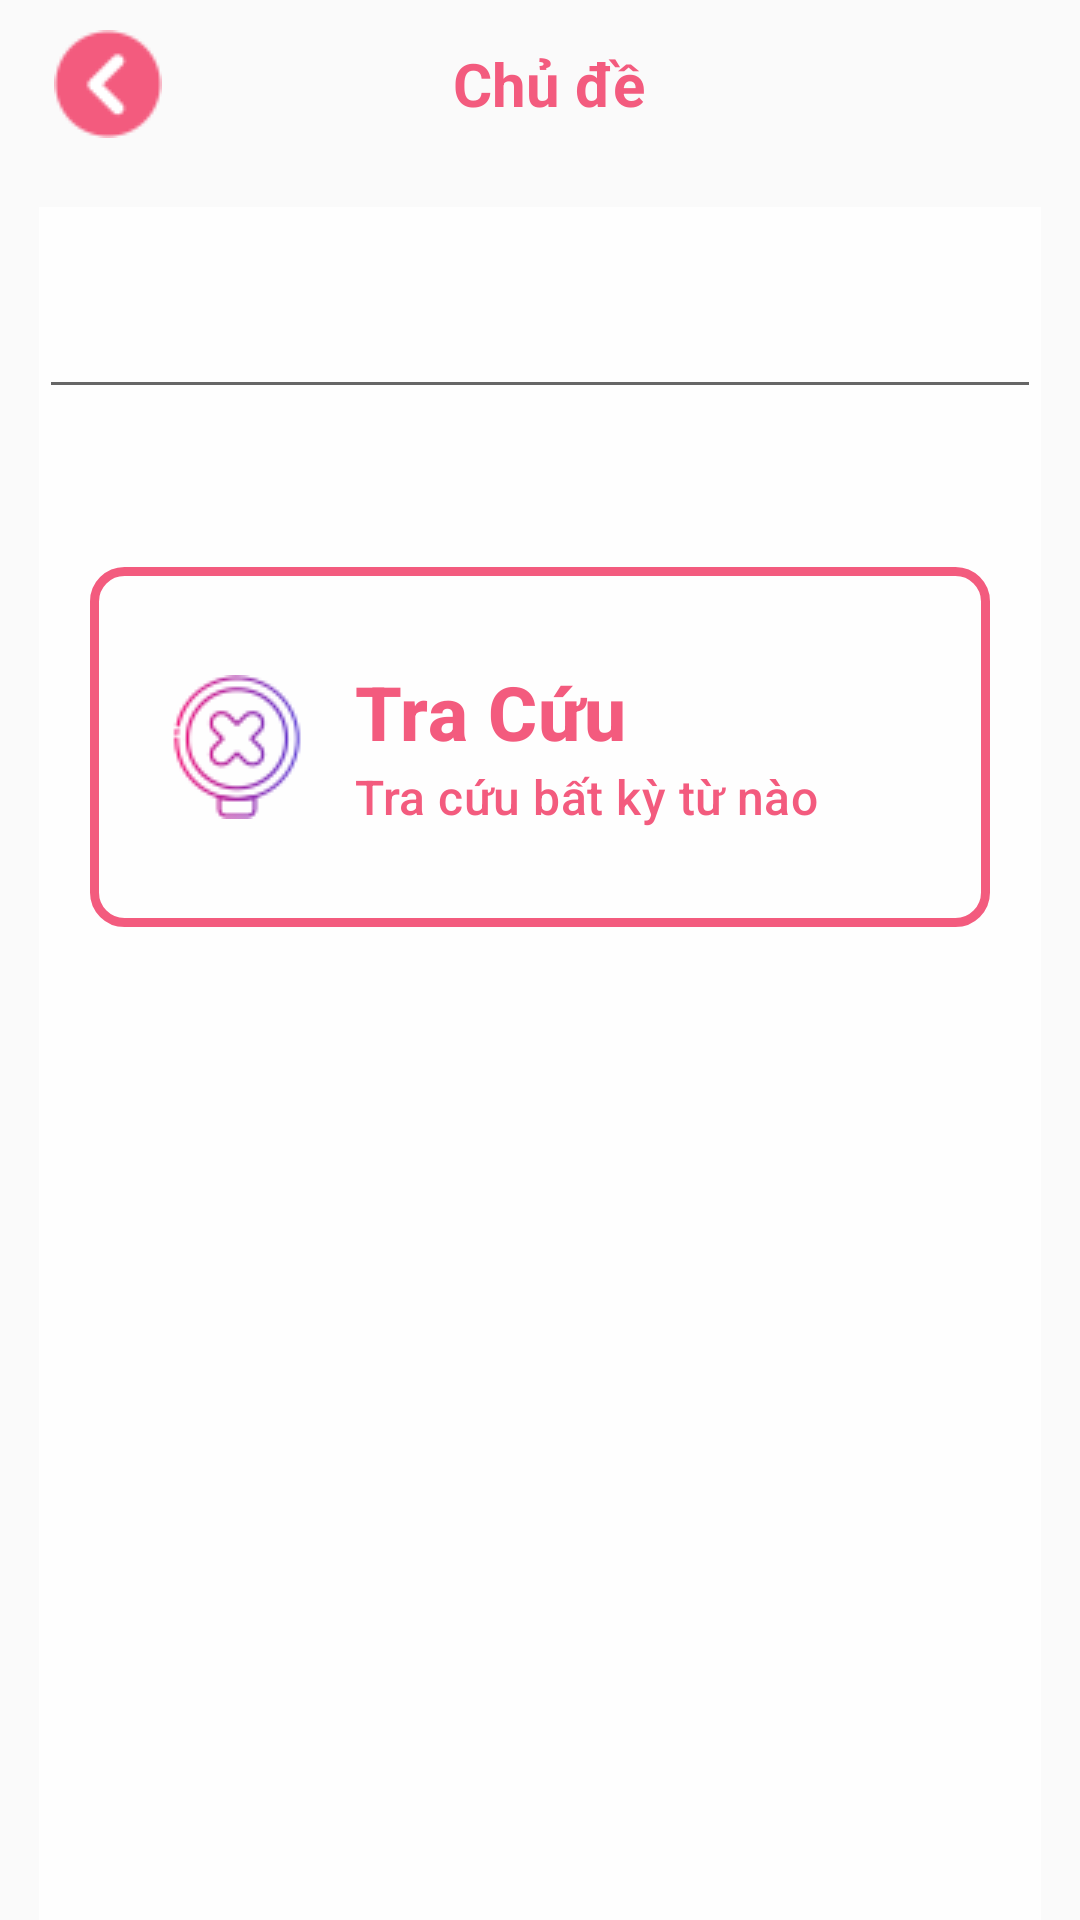

Screen size 1080×1920. Icon name, then its center in pixels as [x,y]:
back: [108,84]
